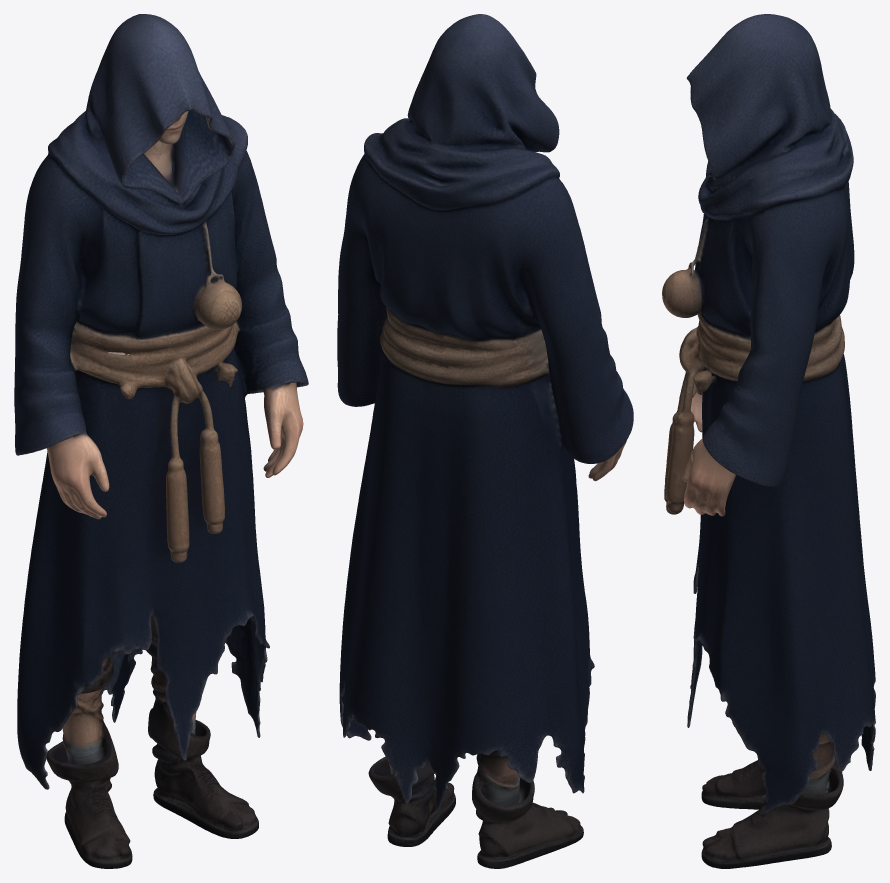
File: shaman-meshy6lite-textured.glb
The picture shows the model from 3 angles, left to right: view 1: azimuth 30°, elevation 25°; view 2: azimuth 150°, elevation 25°; view 3: azimuth 270°, elevation 25°; orthographic projection.
Bounding box in the file's own units: 0.6841 × 1.9 × 0.4528.
1 material, 1 textured.
